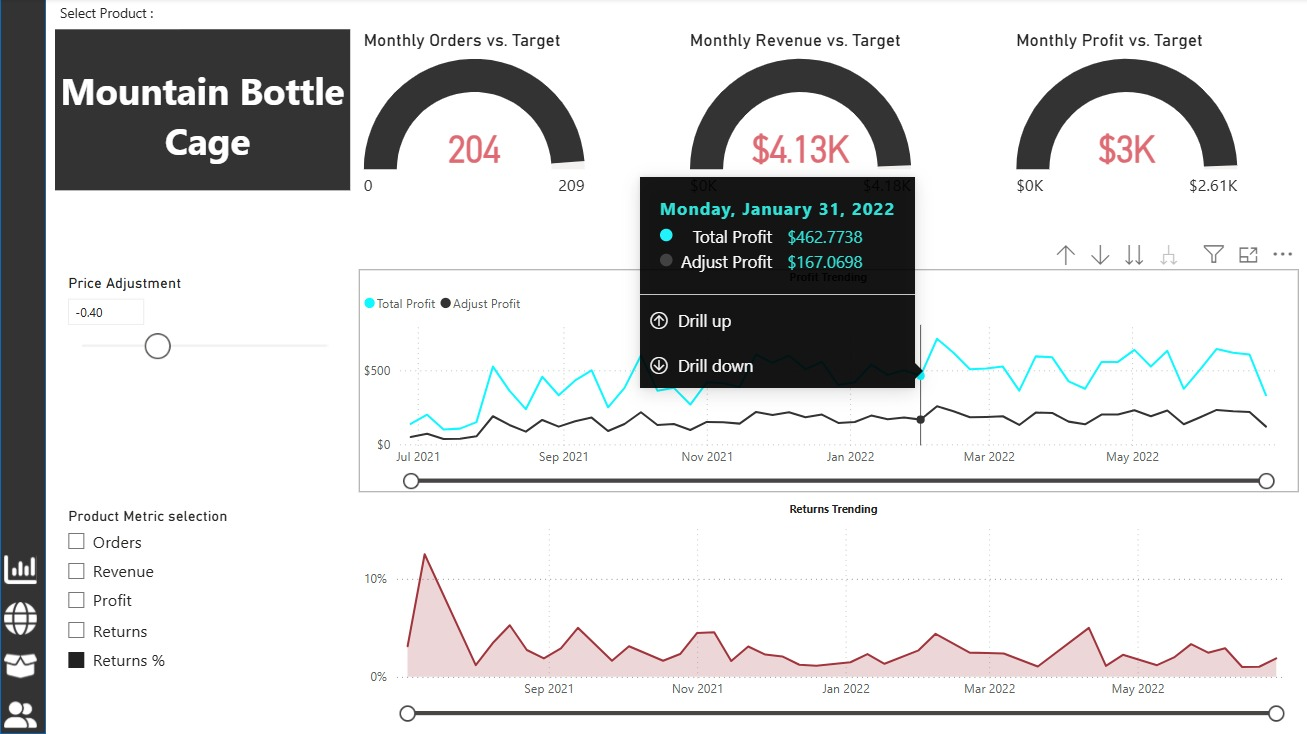

The dashboard page shown, as its layout file describes it:
{"tool":"powerbi","page":{"name":"Product Detail","canvas":[1280,720],"ordinal":2},"visuals":[{"type":"shape","box":[0,0,45,720.2],"z":0},{"type":"actionButton","box":[0,538.8,45,40],"z":0,"group":"g1"},{"type":"gauge","title":"Monthly Orders vs. Target","fields":{"MaxValue":["Measure Table.Order Target"],"Y":["Measure Table.Total Orders"]},"box":[351.2,30,226.2,178.8],"z":1000},{"type":"actionButton","box":[0,585.9,45,40],"z":1000,"group":"g1"},{"type":"gauge","title":"Monthly Revenue vs. Target","fields":{"MaxValue":["Measure Table.Revenue Target"],"Y":["Measure Table.Totall Revenue"]},"box":[670,30,226.2,178.8],"z":2000},{"type":"actionButton","box":[0,633,45,40],"z":2000,"group":"g1"},{"type":"gauge","title":"Monthly Profit vs. Target","fields":{"MaxValue":["Measure Table.Profit Target"],"Y":["Measure Table.Total Profit"]},"box":[988.8,30,226.2,178.8],"z":3000},{"type":"actionButton","box":[0,680.1,45,40],"z":3000,"group":"g1"},{"type":"lineChart","title":"Profit Trending","fields":{"Category":["Calendar Lookup.Date Hierarchy.Start of Year","Calendar Lookup.Date Hierarchy.Start of Month","Calendar Lookup.Date Hierarchy.Start of Week","Calendar Lookup.Date Hierarchy.Date"],"Y":["Measure Table.Total Profit","Measure Table.Adjust Profit"]},"box":[351.2,265,918.8,217.5],"z":4000},{"type":"areaChart","title":"Returns Trending","fields":{"Category":["Calendar Lookup.Date Hierarchy.Start of Year","Calendar Lookup.Date Hierarchy.Start of Month","Calendar Lookup.Date Hierarchy.Start of Week","Calendar Lookup.Date Hierarchy.Date"],"Y":["Measure Table.Total Returns"]},"box":[351.2,492.5,928.8,217.5],"z":5000},{"type":"card","fields":{"Values":["Min(Product Lookup.ProductName)"]},"box":[53.8,30,288.8,157.5],"z":6000},{"type":"textbox","box":[53.8,0,121.2,30],"z":7000},{"type":"group","id":"g1","title":"trans bage","box":[0,538.8,45,181.2],"z":8000},{"type":"slicer","fields":{"Values":["Price Adjustment.Price Adjustment"]},"box":[53.8,265,288.8,153.8],"z":9000},{"type":"slicer","fields":{"Values":["Product Metric selection.Product Metric selection"]},"box":[53.8,492.5,288.8,225],"z":10000}]}

Visuals, with their boxes on the page's 1280x720 design canvas (x1, y1, x2, y2). These are canvas units, not pixel positions in the 1307x734 screenshot, which may show the page scaled, cropped or inside an application window:
shape: [x1=0, y1=0, x2=45, y2=720]
actionButton: [x1=0, y1=539, x2=45, y2=579]
"Monthly Orders vs. Target" gauge: [x1=351, y1=30, x2=577, y2=209]
actionButton: [x1=0, y1=586, x2=45, y2=626]
"Monthly Revenue vs. Target" gauge: [x1=670, y1=30, x2=896, y2=209]
actionButton: [x1=0, y1=633, x2=45, y2=673]
"Monthly Profit vs. Target" gauge: [x1=989, y1=30, x2=1215, y2=209]
actionButton: [x1=0, y1=680, x2=45, y2=720]
"Profit Trending" lineChart: [x1=351, y1=265, x2=1270, y2=482]
"Returns Trending" areaChart: [x1=351, y1=492, x2=1280, y2=710]
card - Min(Product Lookup.ProductName): [x1=54, y1=30, x2=343, y2=188]
textbox: [x1=54, y1=0, x2=175, y2=30]
"trans bage" group: [x1=0, y1=539, x2=45, y2=720]
slicer - Price Adjustment.Price Adjustment: [x1=54, y1=265, x2=343, y2=419]
slicer - Product Metric selection.Product Metric selection: [x1=54, y1=492, x2=343, y2=718]
